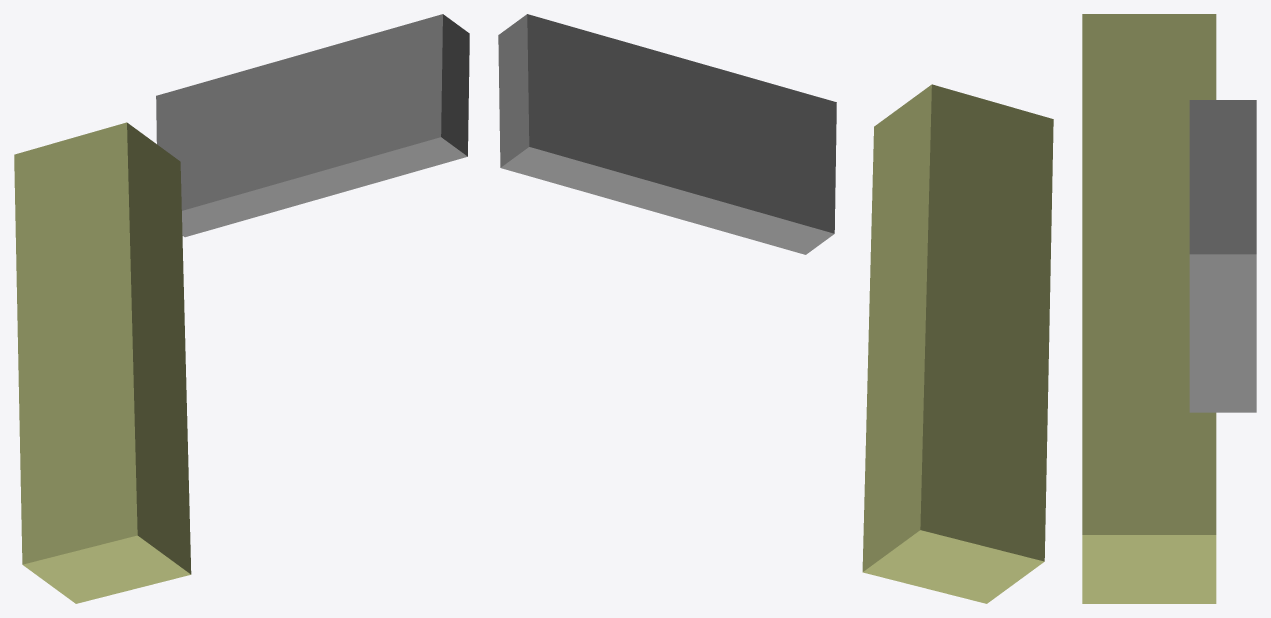
3 renders of one model, left to right at view 1: azimuth 30°, elevation 25°; view 2: azimuth 150°, elevation 25°; view 3: azimuth 270°, elevation 25°, orthographic. The views are drawn at different scales.
Visible parts, largest first — view 1: 0_2_0_1_1_2_2_1_2_2; view 2: 0_2_0_1_1_2_2_1_2_2; view 3: 0_2_0_1_1_2_2_1_2_2.
Part boxes in pixels (left/top/right/bottom): 0_2_0_1_1_2_2_1_2_2: left=14, top=14, right=469, bottom=603; 0_2_0_1_1_2_2_1_2_2: left=498, top=14, right=1053, bottom=603; 0_2_0_1_1_2_2_1_2_2: left=1082, top=14, right=1256, bottom=603.
Bounding box in the file's own units: 28.74 × 26.69 × 7.8.
